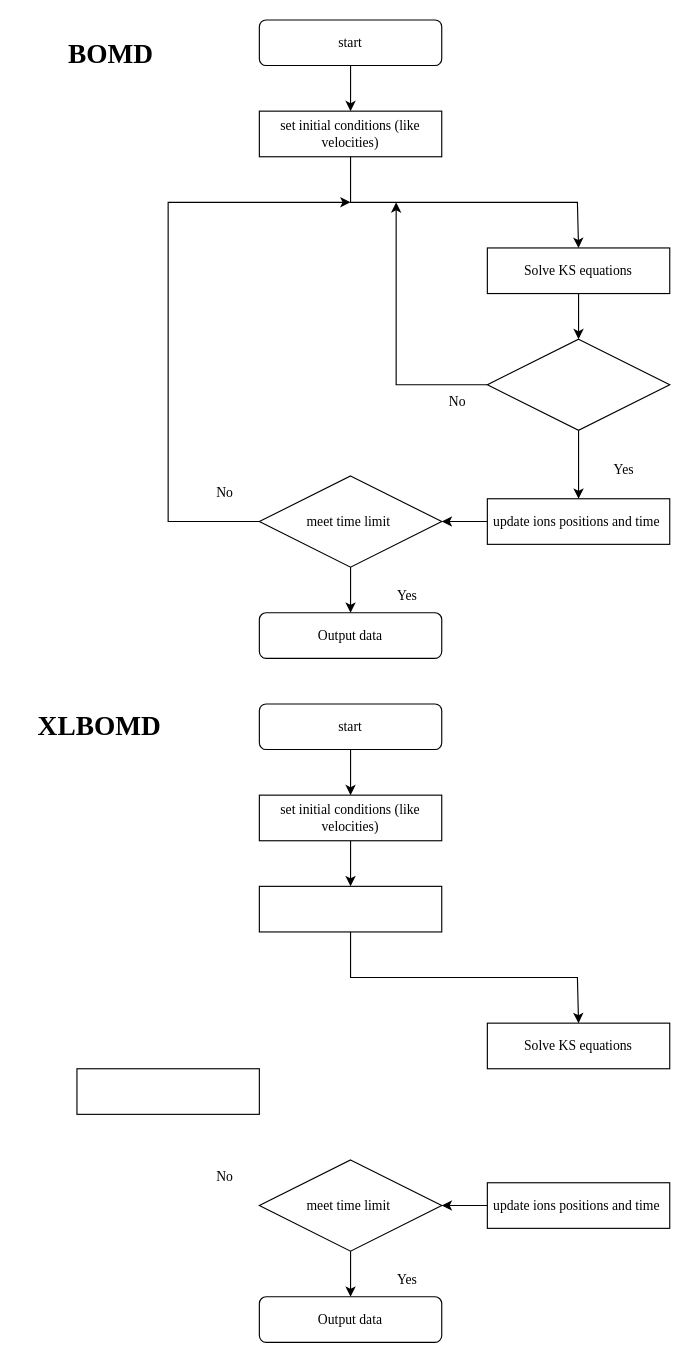
Some shapes in this 690 by 1362 pixel diagram are drawn without their labels. The shapes that lost their labels are listed below. From the top down, each one's centre as x and y in pixels, then its label:
pixel 578 384: Is self-consistent
pixel 350 908: Find the Kernel
pixel 167 1091: Move the shadow density
